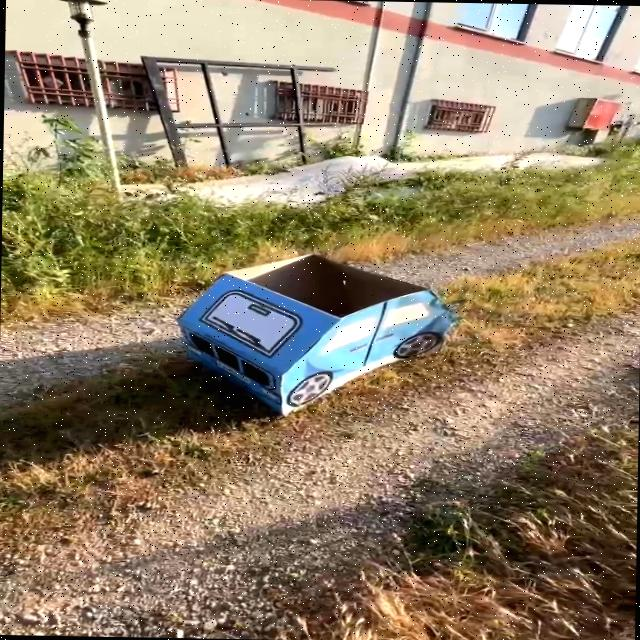blue_car: (96, 250, 501, 433)
